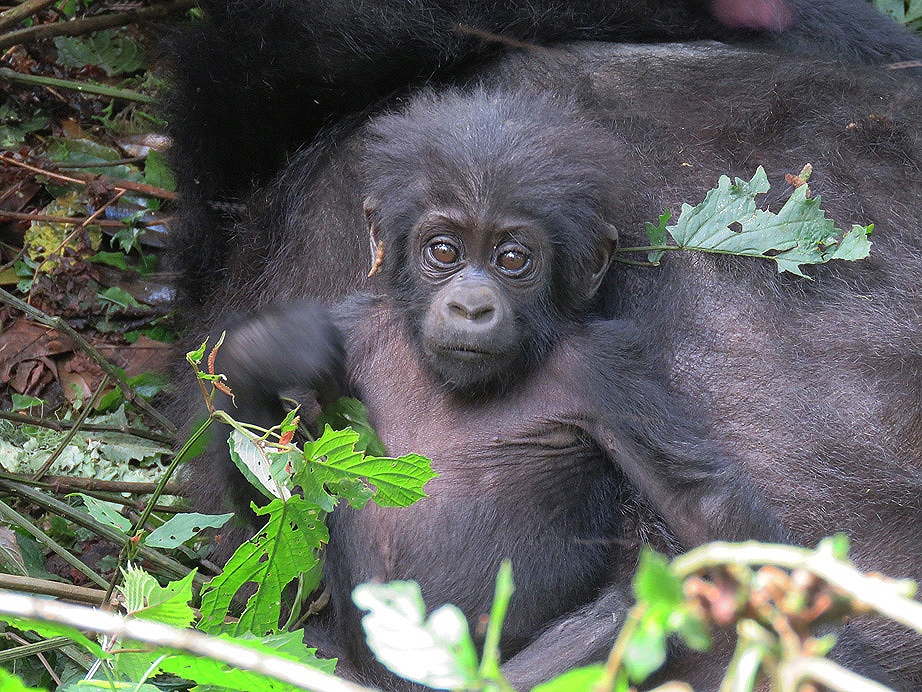Goriila: (293, 96, 678, 692)
